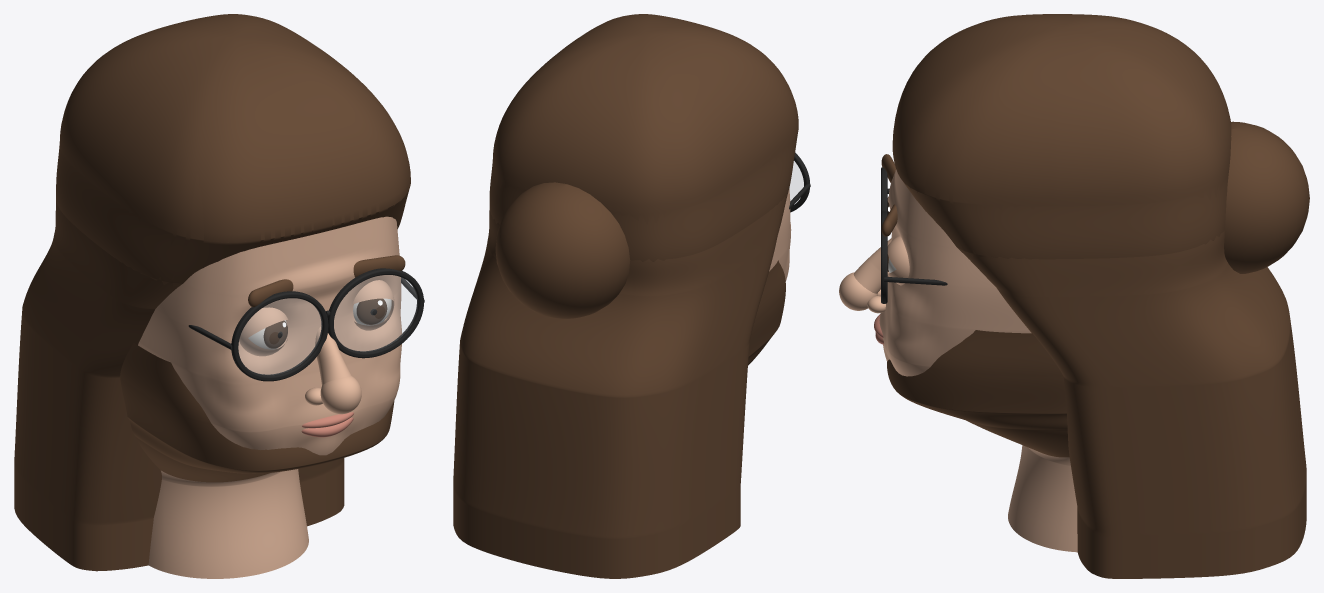
File: head.gltf
3 views of the same model, side by side, from view 1: azimuth 30°, elevation 25°; view 2: azimuth 150°, elevation 25°; view 3: azimuth 270°, elevation 25° (orthographic). The views are drawn at different scales.
Parts seen in each view (by area): view 1: long hair, skull, beard, short hair, lens (×2), rim (×2), upper lid (×2), brow (×2), nose tip, nose, iris; view 2: long hair, bun, short hair, beard, skull; view 3: long hair, skull, short hair, beard, bun, nose tip, nose.
Boxes of the visible parts, x1,y1,x2,y2 form: long hair: (14,14,410,571); skull: (138,216,402,578); beard: (120,342,394,482); short hair: (56,102,410,287); lens (×2): (238,275,417,374); rim (×2): (231,268,423,381); upper lid (×2): (239,280,394,342); brow (×2): (248,255,405,307); nose tip: (320,376,361,414); nose: (315,326,351,385); iris: (356,298,387,324); long hair: (453,14,798,578); bun: (495,182,630,318); short hair: (489,67,798,261); beard: (748,260,785,365); skull: (769,189,791,281); long hair: (892,14,1306,578); skull: (879,169,1077,552); short hair: (892,118,1230,259); beard: (887,330,1069,457); bun: (1224,121,1309,273); nose tip: (839,272,877,310); nose: (853,238,891,293).
Bounding box in the file's own units: 0.1808 × 0.3302 × 0.2884.
